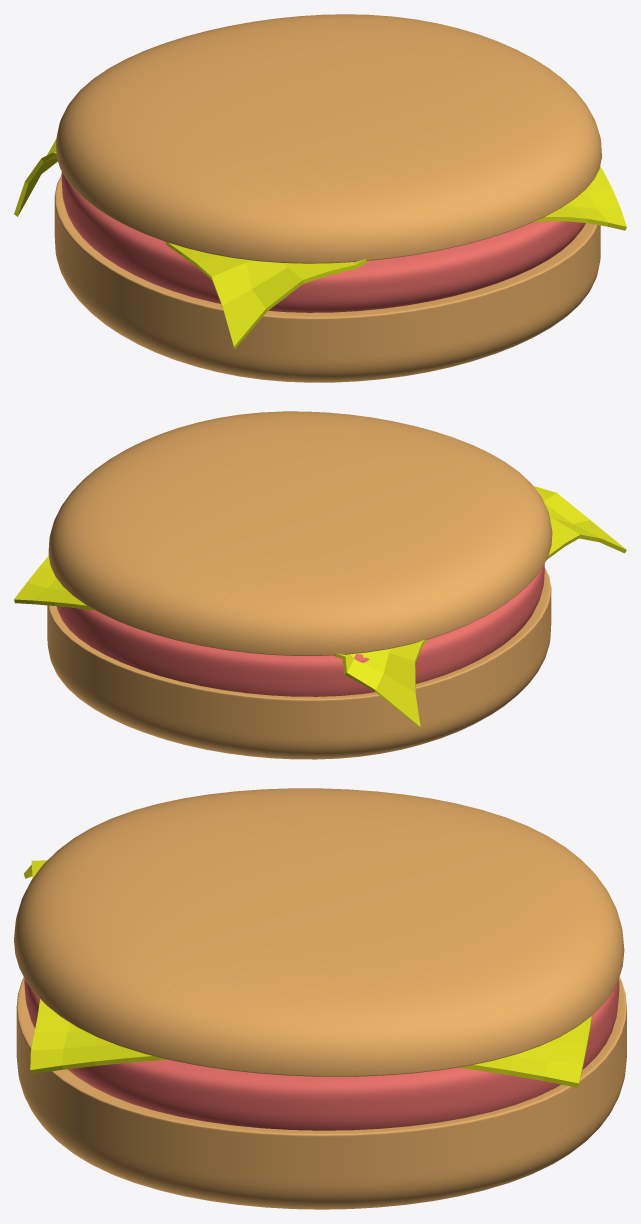
File: hamburger.glb
3 renders of one model, top to bottom at view 1: azimuth 30°, elevation 25°; view 2: azimuth 150°, elevation 25°; view 3: azimuth 270°, elevation 25°, orthographic. The views are drawn at different scales.
Visible parts, largest first — view 1: Cube.002, Cube, Cube.001, Plane; view 2: Cube.002, Cube, Cube.001, Plane; view 3: Cube.002, Cube, Cube.001, Plane.
Boxes of the visible parts, x1=… form: Cube.002: x1=56, y1=14, x2=601, y2=263; Cube: x1=54, y1=175, x2=600, y2=382; Cube.001: x1=61, y1=171, x2=585, y2=312; Plane: x1=14, y1=139, x2=626, y2=348; Cube.002: x1=48, y1=411, x2=552, y2=655; Cube: x1=47, y1=567, x2=551, y2=759; Cube.001: x1=56, y1=564, x2=544, y2=696; Plane: x1=14, y1=486, x2=626, y2=727; Cube.002: x1=14, y1=788, x2=624, y2=1076; Cube: x1=16, y1=977, x2=626, y2=1209; Cube.001: x1=24, y1=978, x2=619, y2=1130; Plane: x1=24, y1=860, x2=592, y2=1087.
Bounding box in the file's own units: 9.13 × 3.84 × 9.17.
